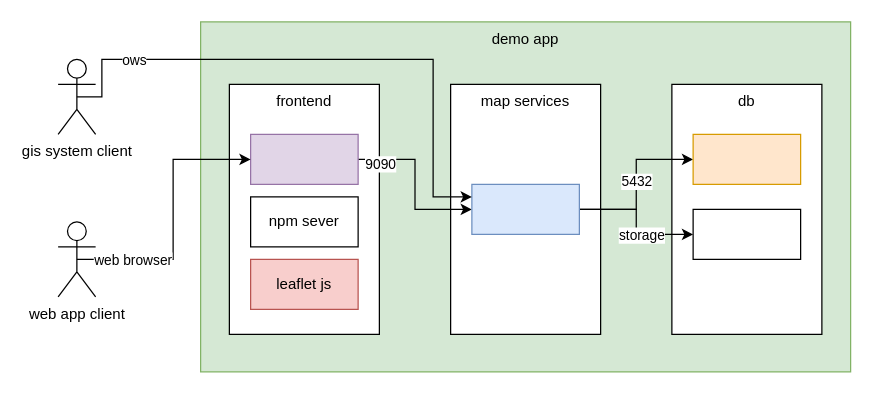
Some shapes in this 873 by 404 pixel diagram are drawn without their labels. The centre of each missing label's shape, as x and y in pixels:
"geoserver" belongs at (525,208).
"gpkg, fgb files" belongs at (746,233).
"post gis" belongs at (746,158).
"react app" belongs at (303,158).
